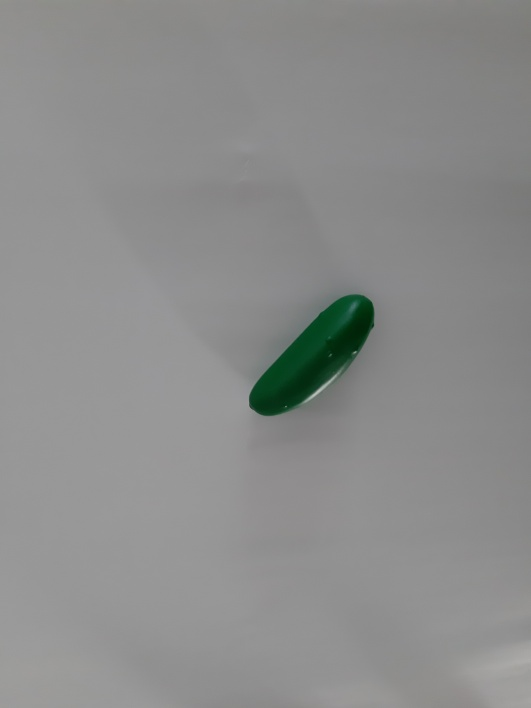cucumber: (228, 280, 394, 443)
